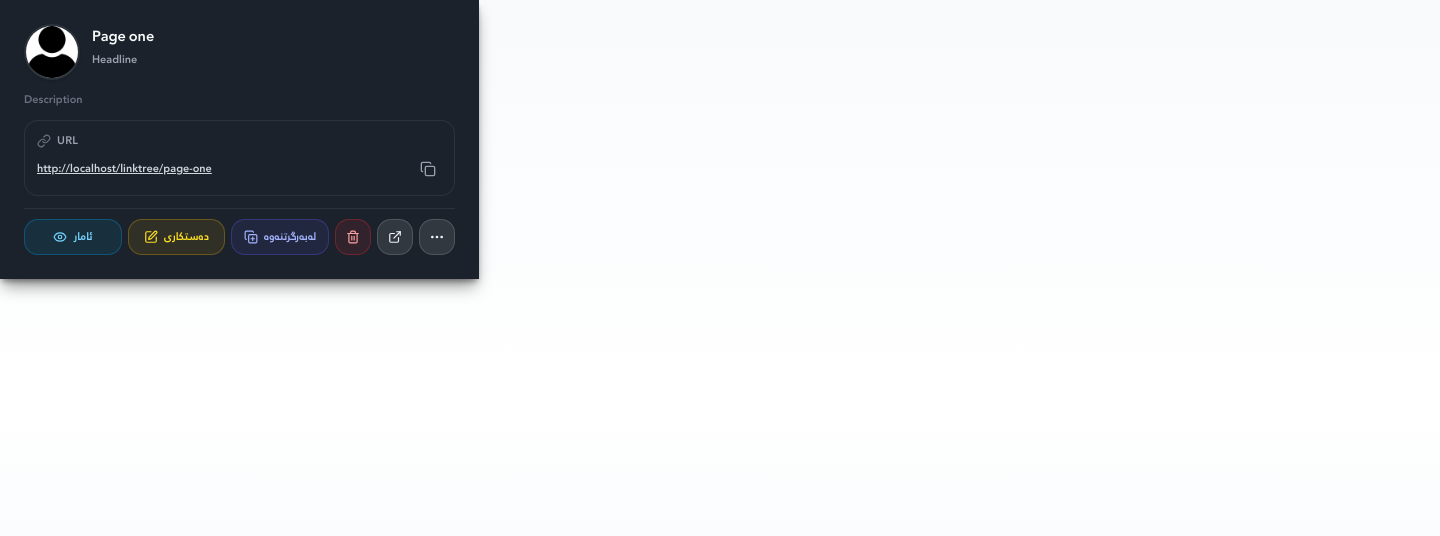
Test case: LinktreesGrid shared public-page presentation › toggles the secondary grid actions inline
Expected: the button "لەبەرگرتنەوە" is shown, x1=231 y1=219 x2=329 y2=255
Expected: the button named "بینین" is shown, x1=377 y1=219 x2=413 y2=255
Click the button named "کردارە زیاترەکان". click: (437, 237)
box: x1=419 y1=219 x2=455 y2=255
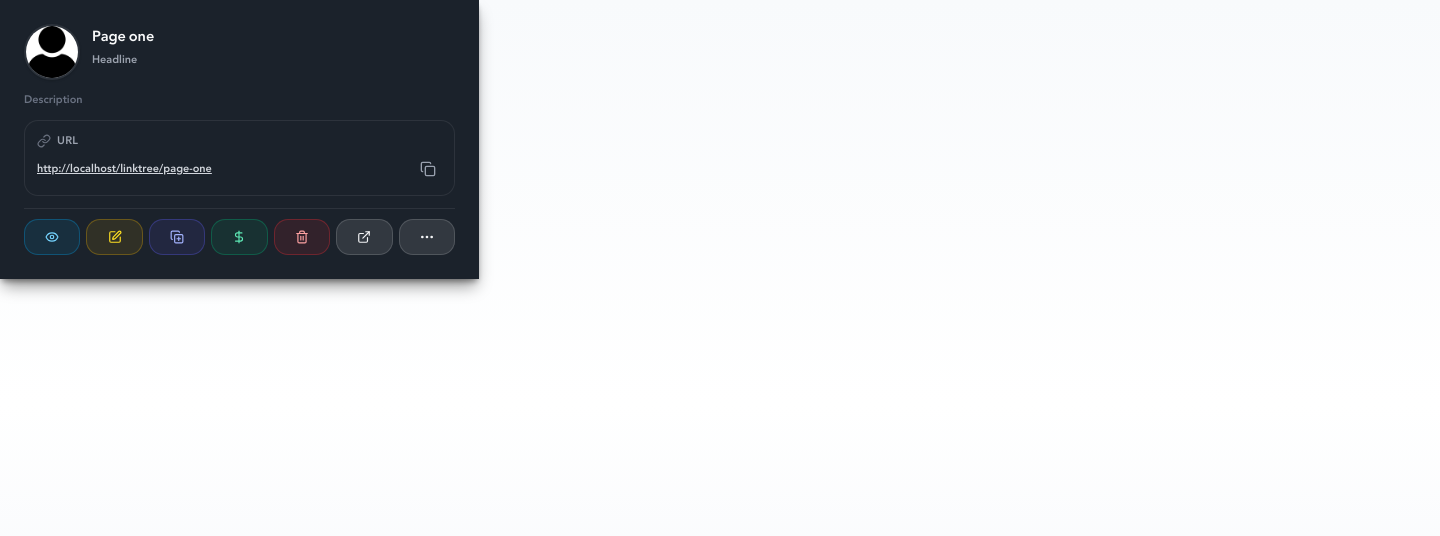
Expected: the button named "بینین" is shown, x1=336 y1=219 x2=392 y2=255
Expected: the button named "کردارە زیاترەکان" is expanded
Expected: the button named "قازانج" is shown, x1=211 y1=219 x2=268 y2=255
Click the button named "کردارە زیاترەکان". click: (427, 237)
box: x1=398 y1=219 x2=455 y2=255
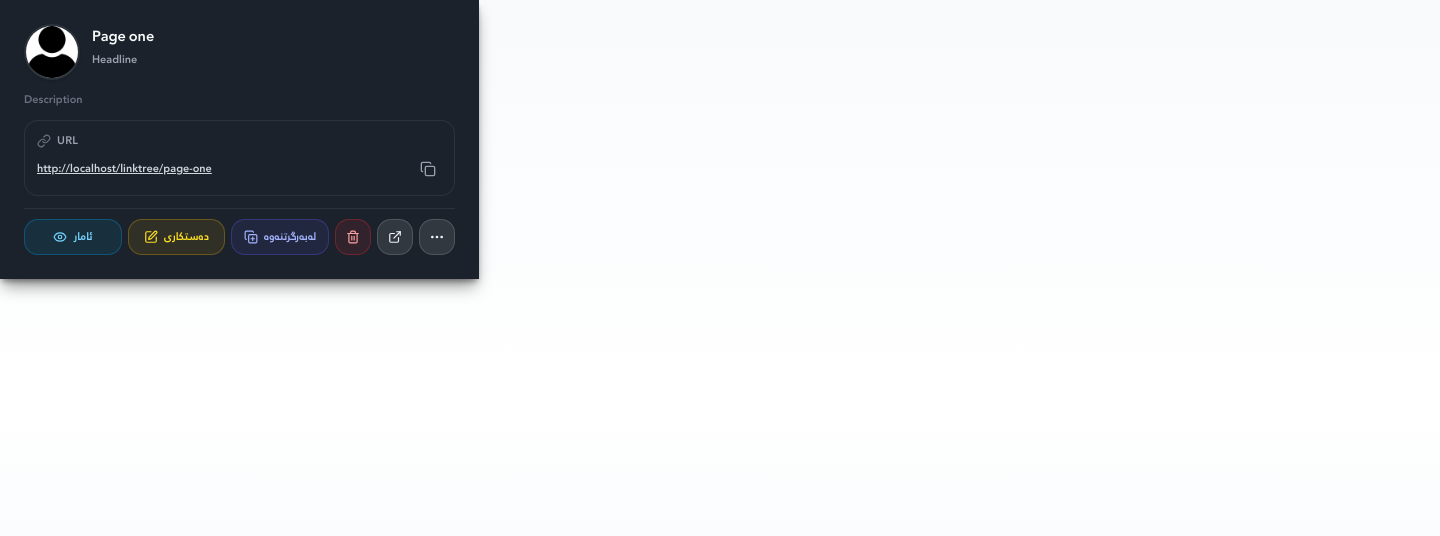
Expected: the button named "بینین" is shown, x1=377 y1=219 x2=413 y2=255
Expected: the button named "کردارە زیاترەکان" is collapsed, x1=419 y1=219 x2=455 y2=255
Expected: the button "قازانج" is gone
